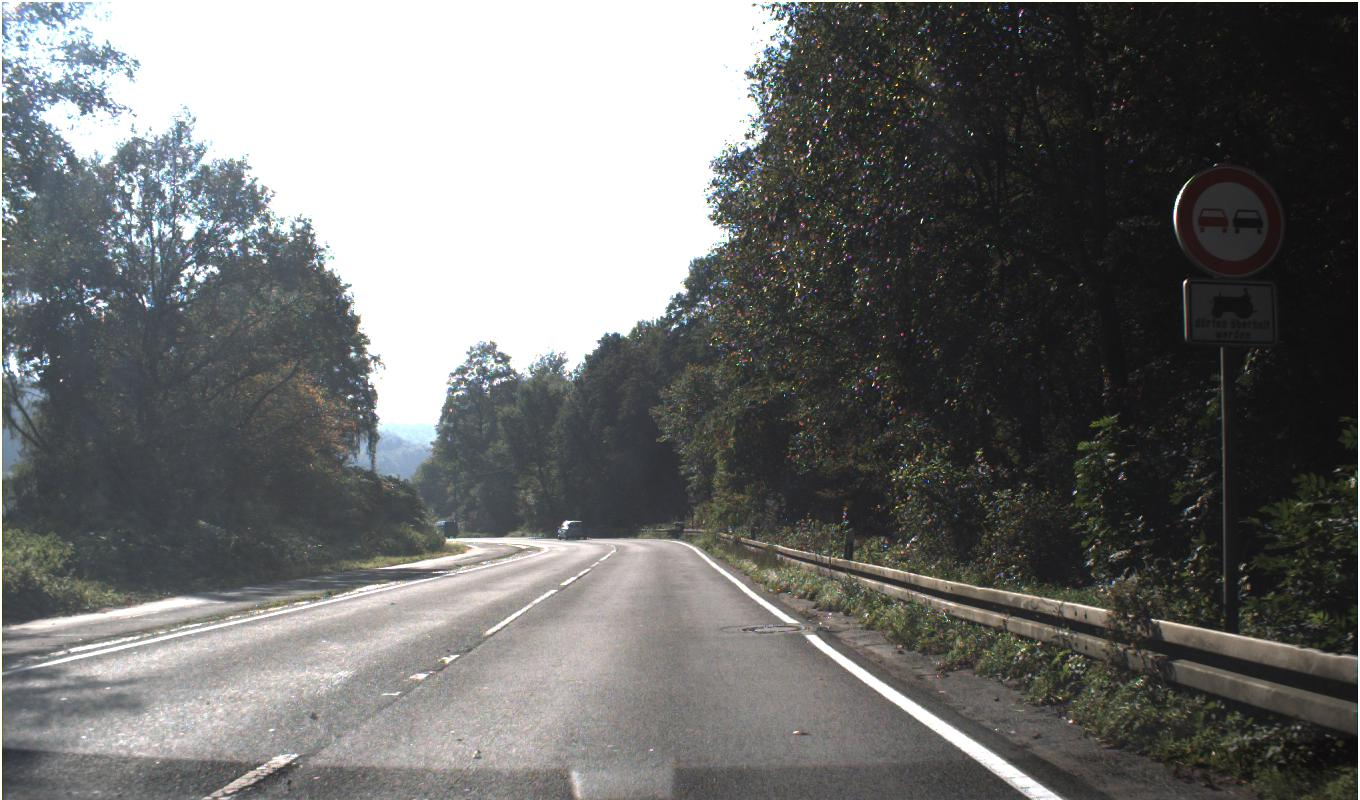prohibitory: (1172, 164, 1284, 278)
